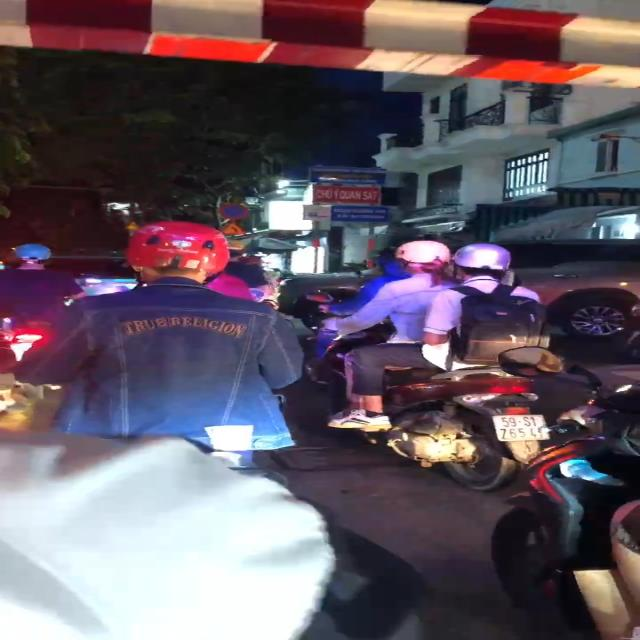Bien bao cam dung xe va do xe: (217, 202, 256, 220)
Bien bao cho ngoat nguy hiem: (218, 222, 249, 236)
